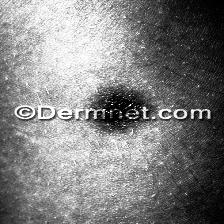Benign Marking or Mole: (91, 89, 151, 132)
